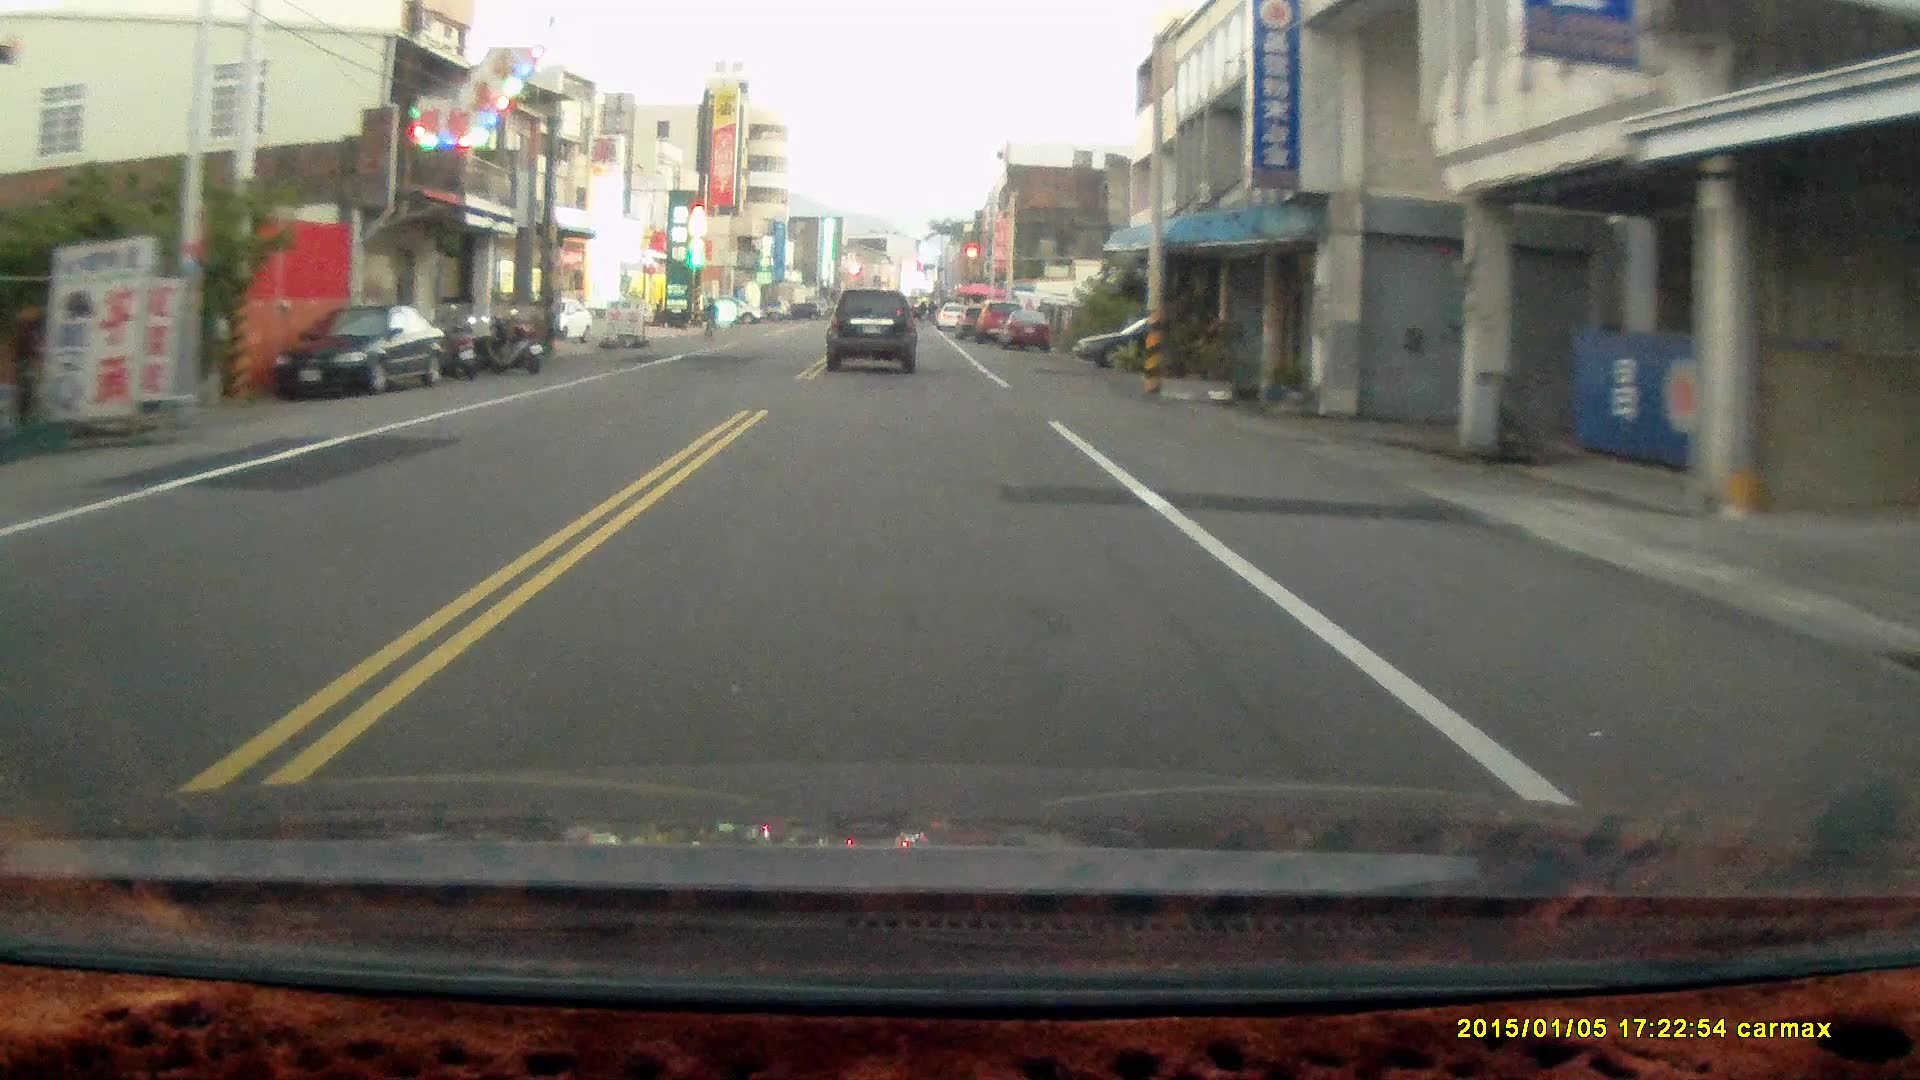pedestrian: (7, 300, 48, 427)
rider: (697, 294, 720, 340)
vehicle: (268, 304, 448, 395), (826, 286, 919, 377)
